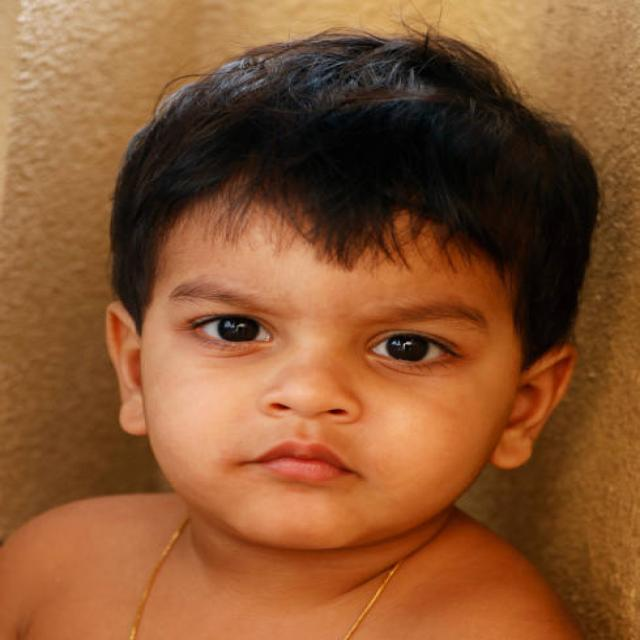low: (362, 360, 457, 384), (194, 342, 276, 366)
